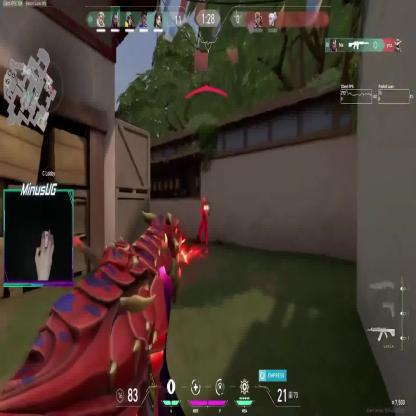enemy: (198, 196, 209, 254)
enemy_head: (202, 196, 206, 206)
